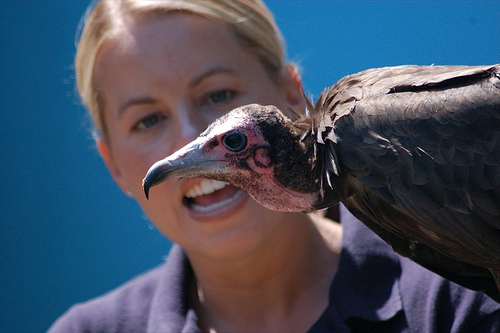without_mask: (76, 1, 322, 285)
